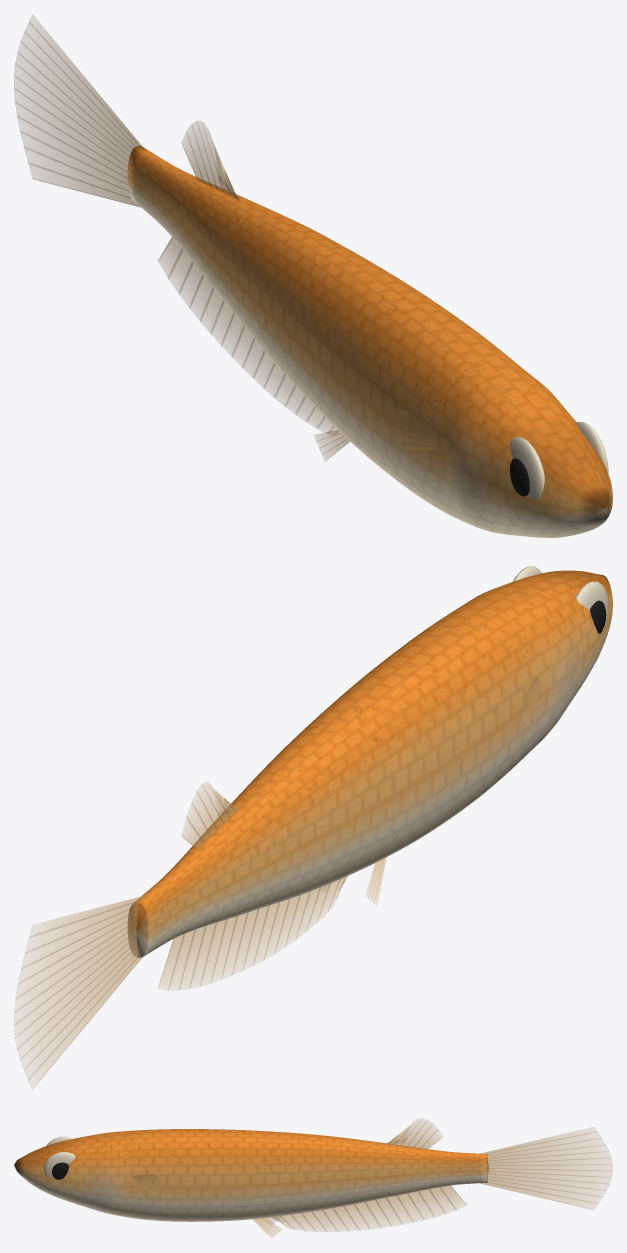
File: himedaka.glb
The picture shows the model from 3 angles, top to bottom: view 1: azimuth 30°, elevation 25°; view 2: azimuth 150°, elevation 25°; view 3: azimuth 270°, elevation 25°; orthographic projection. The views are drawn at different scales.
Parts seen in each view (by area): view 1: body, fins, iris; view 2: body, fins, iris; view 3: body, fins, iris, pupil.
Boxes of the visible parts, <box> form: body: <box>127,146,612,537</box>; fins: <box>14,14,438,461</box>; iris: <box>510,422,608,500</box>; body: <box>128,570,612,957</box>; fins: <box>14,676,539,1089</box>; iris: <box>513,566,608,623</box>; body: <box>14,1129,488,1221</box>; fins: <box>132,1118,612,1237</box>; iris: <box>44,1136,75,1177</box>; pupil: <box>52,1162,68,1179</box>.
Bounding box in the file's own units: 0.125 × 0.2126 × 1.01.
4 materials, 2 textured.
